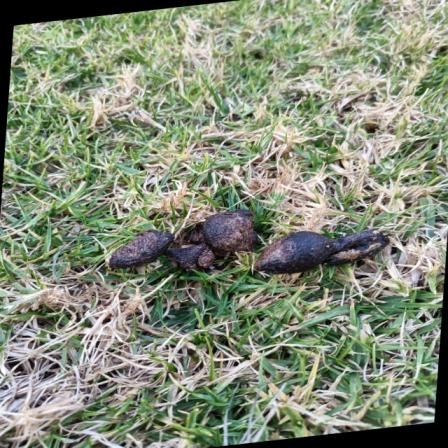dog-poop: (111, 210, 382, 277)
